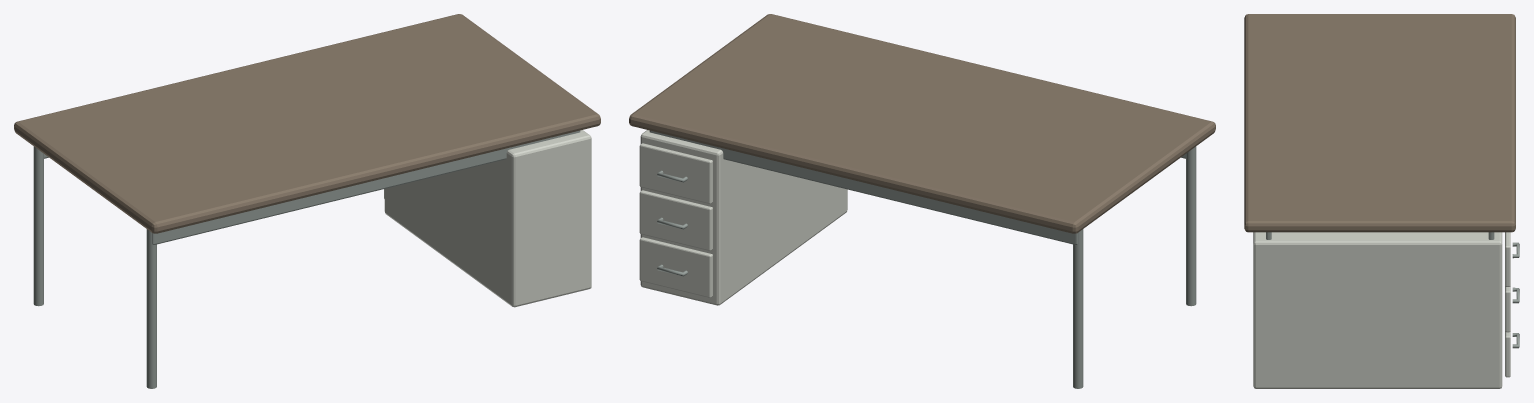
The model's file is art_workbench.glb.
3 renders of one model, left to right at view 1: azimuth 30°, elevation 25°; view 2: azimuth 150°, elevation 25°; view 3: azimuth 270°, elevation 25°, orthographic. The views are drawn at different scales.
Visible parts, largest first — view 1: KitWood, KitIvory, KitSteel; view 2: KitWood, KitIvory, KitSteel; view 3: KitWood, KitIvory, KitSteel.
Part boxes in pixels (left/top/right/bottom): KitWood: left=14, top=14, right=600, bottom=233; KitIvory: left=384, top=130, right=591, bottom=307; KitSteel: left=33, top=130, right=580, bottom=388; KitWood: left=629, top=14, right=1215, bottom=233; KitIvory: left=639, top=130, right=847, bottom=305; KitSteel: left=649, top=130, right=1196, bottom=388; KitWood: left=1244, top=14, right=1515, bottom=232; KitIvory: left=1253, top=232, right=1510, bottom=388; KitSteel: left=1266, top=232, right=1519, bottom=348.
Bounding box in the file's own units: 2.2 × 0.8275 × 1.22.
